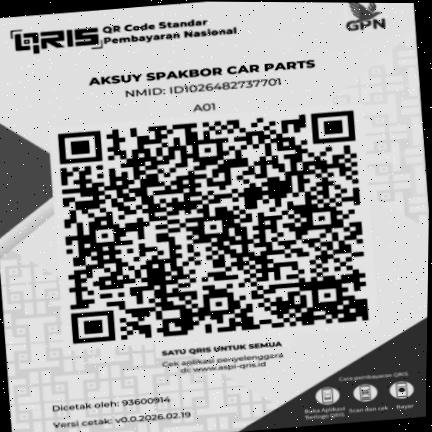Qris-Positioning: (0, 2, 429, 432)
